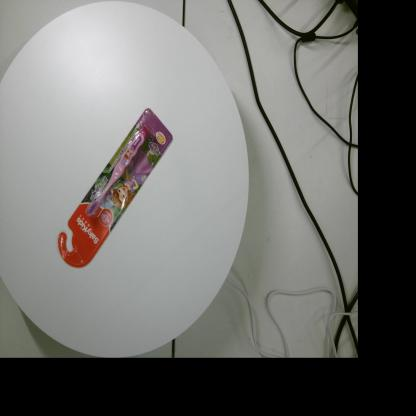Personal Hygiene: (58, 108, 173, 268)
